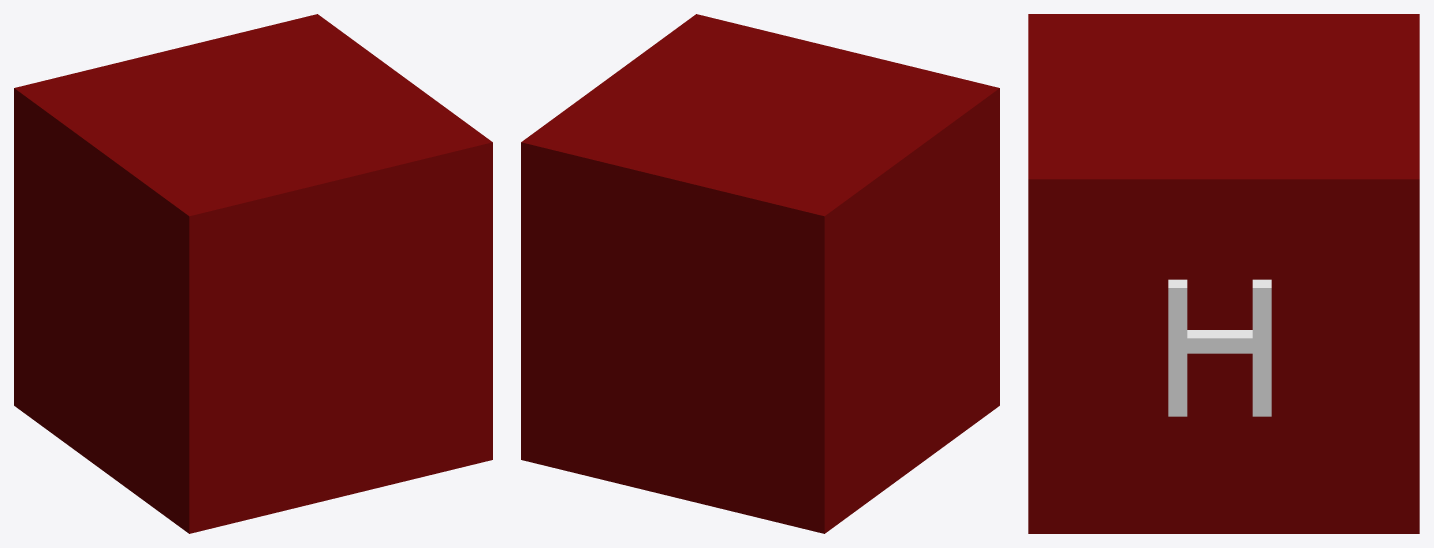
The picture shows the model from 3 angles, left to right: view 1: azimuth 30°, elevation 25°; view 2: azimuth 150°, elevation 25°; view 3: azimuth 270°, elevation 25°; orthographic projection. The views are drawn at different scales.
Visible parts, largest first — view 1: SketchUp; view 2: SketchUp; view 3: SketchUp, H_1.
Part boxes in pixels (x1,y1,x2,y2): SketchUp: (14, 14, 492, 533); SketchUp: (521, 14, 999, 533); SketchUp: (1028, 14, 1419, 533); H_1: (1168, 279, 1271, 416).
Size of the model in its own units: 21 by 20 by 20.
